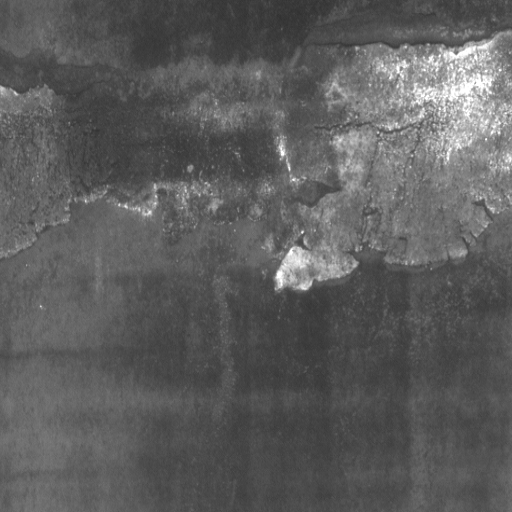qiaopi: (1, 22, 511, 292)
